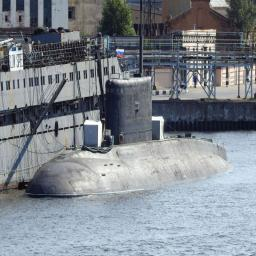submarine: (25, 83, 226, 196)
